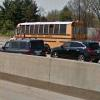Bus: (15, 18, 87, 41)
